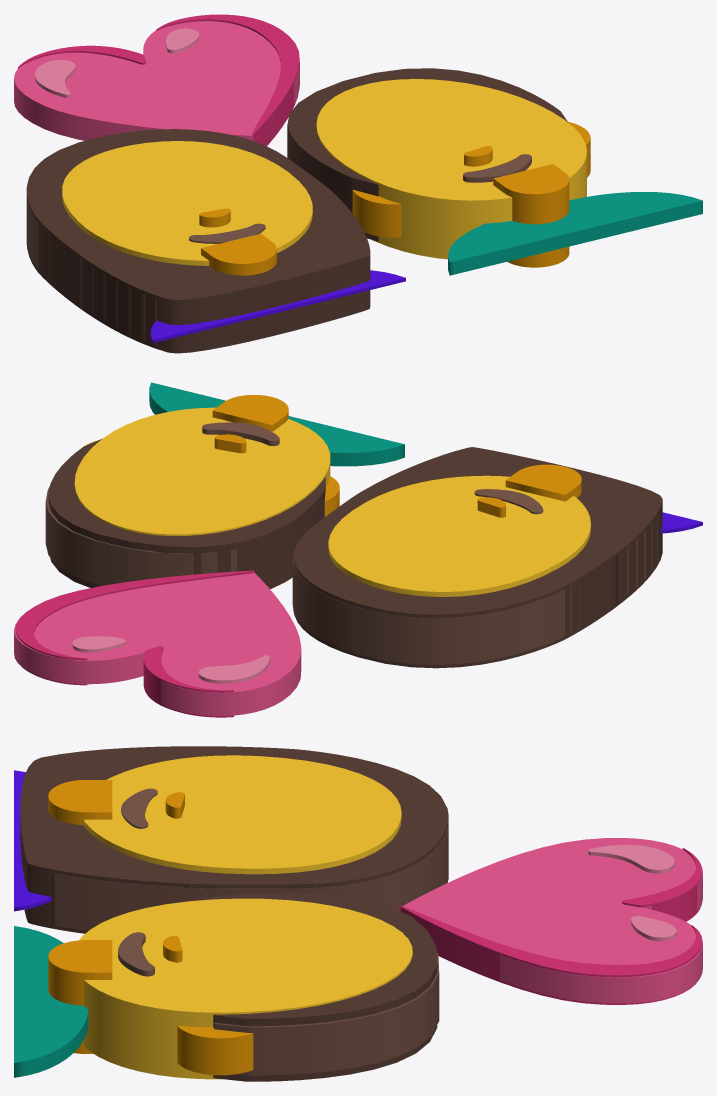
File: emoji_u1f469_200d_2764_200d_1f468.glb
The picture shows the model from 3 angles, top to bottom: view 1: azimuth 30°, elevation 25°; view 2: azimuth 150°, elevation 25°; view 3: azimuth 270°, elevation 25°; orthographic projection. The views are drawn at different scales.
Parts seen in each view (by area): view 1: emoji_u1f469_200d_2764_200d_1f468; view 2: emoji_u1f469_200d_2764_200d_1f468; view 3: emoji_u1f469_200d_2764_200d_1f468.
Part boxes in pixels (x1=…): emoji_u1f469_200d_2764_200d_1f468: x1=14, y1=14, x2=702, y2=353; emoji_u1f469_200d_2764_200d_1f468: x1=14, y1=382, x2=702, y2=717; emoji_u1f469_200d_2764_200d_1f468: x1=14, y1=746, x2=702, y2=1081.
Bounding box in the file's own units: 0.0346 × 0.005 × 0.0337.
